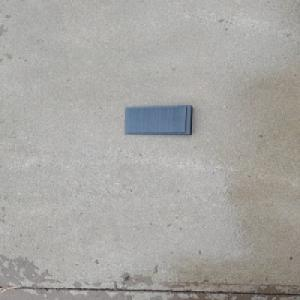PlasticPart: (121, 104, 194, 136)
